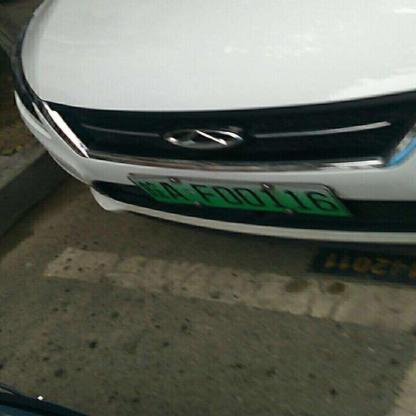lp: (128, 177, 350, 215)
